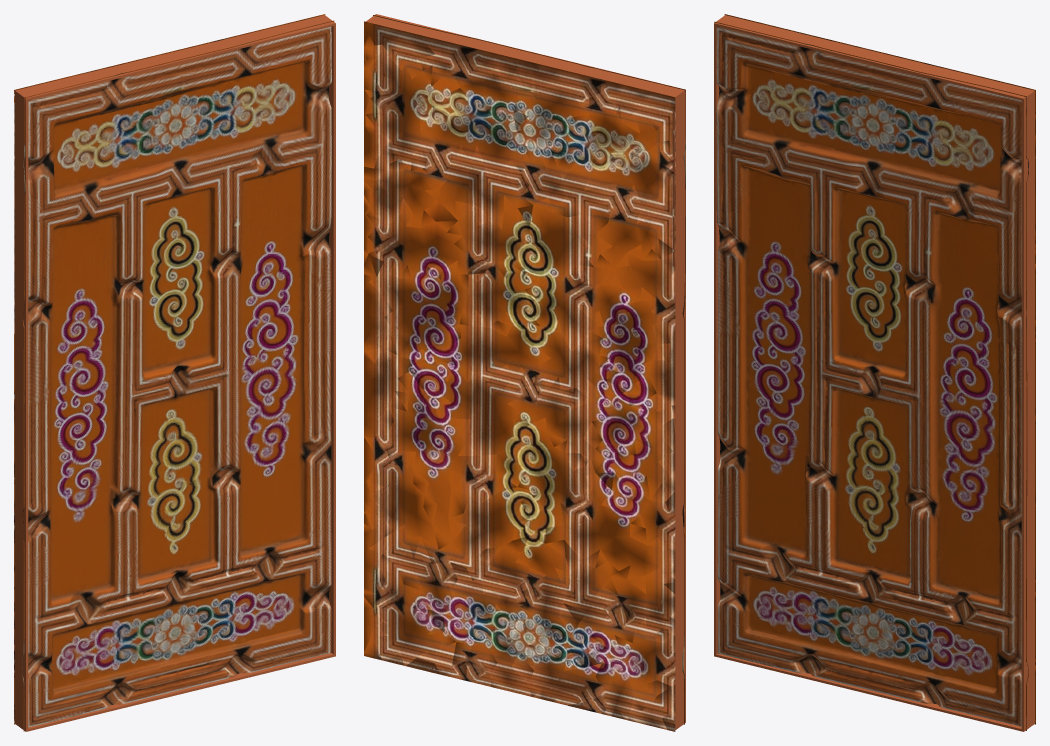
File: khaalga_khavtas.glb
The picture shows the model from 3 angles, left to right: view 1: azimuth 30°, elevation 25°; view 2: azimuth 150°, elevation 25°; view 3: azimuth 330°, elevation 25°; orthographic projection.
Parts seen in each view (by area): view 1: Khaalga_Khavtas; view 2: Khaalga_Khavtas; view 3: Khaalga_Khavtas.
Boxes of the visible parts, x1,y1,x2,y2 form: Khaalga_Khavtas: (14, 14, 335, 731); Khaalga_Khavtas: (364, 14, 685, 731); Khaalga_Khavtas: (714, 14, 1035, 731).
Size of the model in its own units: 0.8535 by 1.66 by 0.0551.
3 materials, 2 textured.
